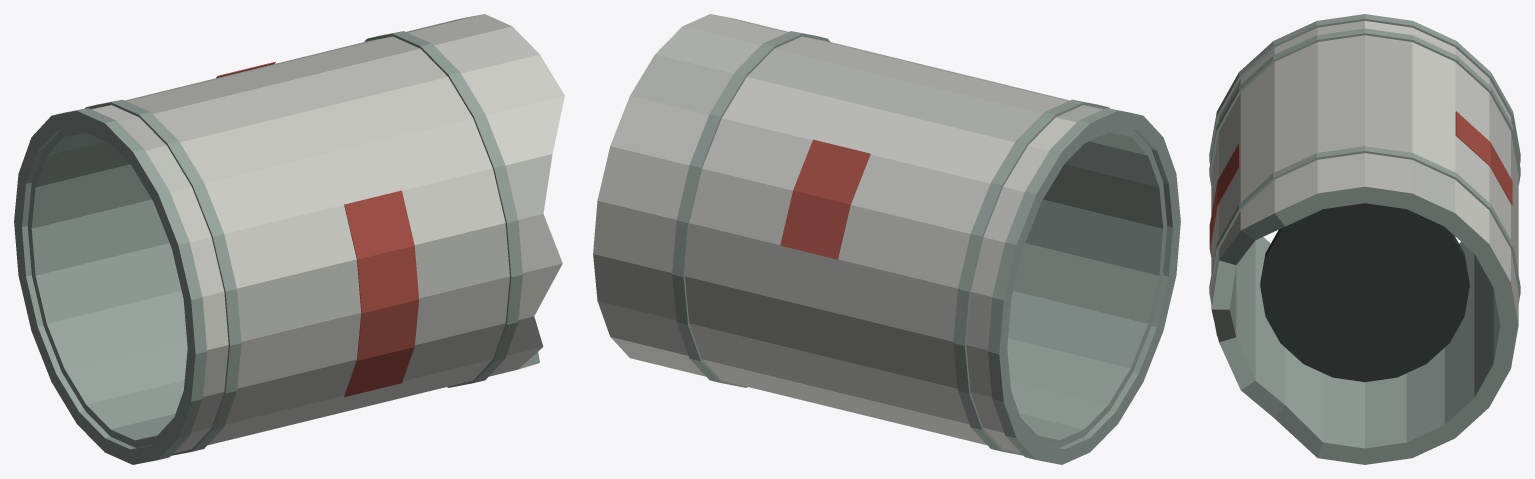
Rendered from Engine_Nacelle_Broken.glb.
3 renders of one model, left to right at view 1: azimuth 30°, elevation 25°; view 2: azimuth 150°, elevation 25°; view 3: azimuth 270°, elevation 25°, orthographic. The views are drawn at different scales.
Parts seen in each view (by area): view 1: Engine_Nacelle_Broken; view 2: Engine_Nacelle_Broken; view 3: Engine_Nacelle_Broken.
Boxes of the visible parts, box(x1,y1,x2,y2) form: Engine_Nacelle_Broken: box(14, 14, 564, 464); Engine_Nacelle_Broken: box(593, 14, 1180, 464); Engine_Nacelle_Broken: box(1209, 14, 1520, 464).
Size of the model in its own units: 3.55 by 2.74 by 2.74.
